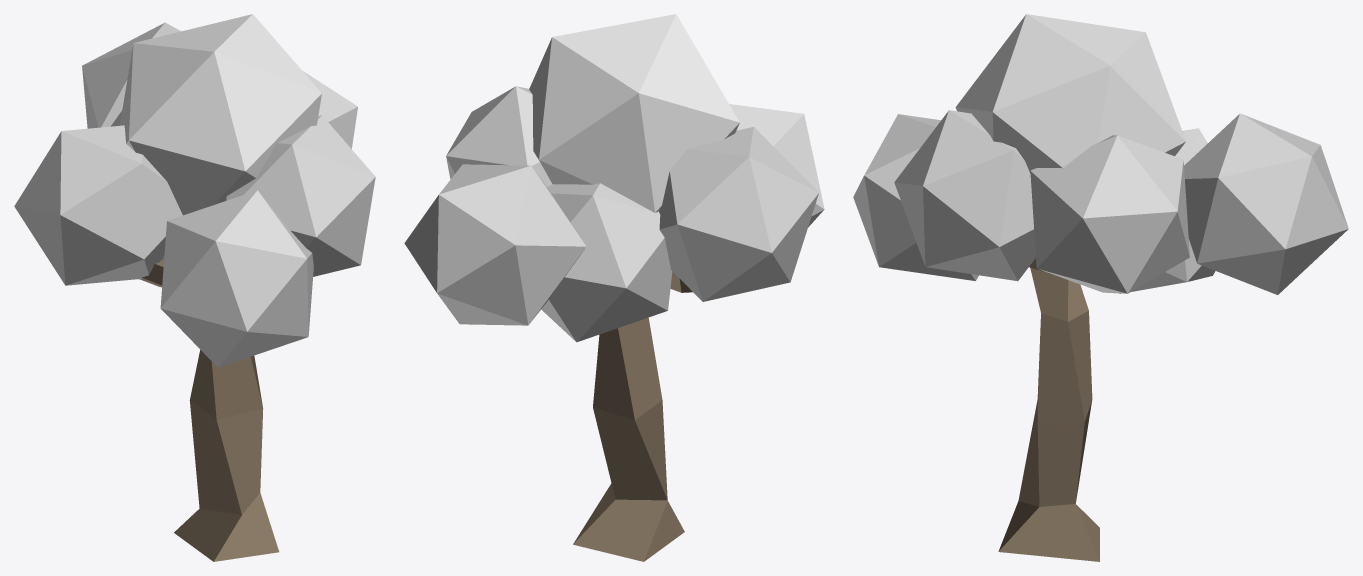
File: Tree.fbx
The picture shows the model from 3 angles, left to right: view 1: azimuth 30°, elevation 25°; view 2: azimuth 150°, elevation 25°; view 3: azimuth 270°, elevation 25°; orthographic projection. The views are drawn at different scales.
Parts seen in each view (by area): view 1: Icosphere.006, Icosphere.004, Icosphere.003, Cube, Icosphere.005, Icosphere, Icosphere.001; view 2: Icosphere.006, Icosphere, Icosphere.003, Cube, Icosphere.002, Icosphere.001, Icosphere.004; view 3: Icosphere.006, Icosphere, Icosphere.001, Icosphere.005, Cube, Icosphere.004, Icosphere.002.
Boxes of the visible parts, x1,y1,x2,y2 form: Icosphere.006: (119, 14, 321, 215); Icosphere.004: (160, 190, 313, 367); Icosphere.003: (14, 125, 182, 285); Cube: (139, 260, 279, 561); Icosphere.005: (225, 115, 375, 276); Icosphere: (82, 22, 180, 128); Icosphere.001: (302, 70, 357, 148); Icosphere.006: (529, 14, 739, 212); Icosphere: (404, 164, 586, 325); Icosphere.003: (659, 127, 818, 301); Cube: (573, 271, 692, 561); Icosphere.002: (541, 183, 672, 342); Icosphere.001: (446, 86, 552, 186); Icosphere.004: (729, 104, 824, 227); Icosphere.006: (955, 14, 1185, 173); Icosphere: (1184, 113, 1348, 294); Icosphere.001: (1030, 135, 1189, 293); Icosphere.005: (894, 110, 1035, 281); Cube: (998, 258, 1099, 561); Icosphere.004: (853, 114, 978, 280); Icosphere.002: (1119, 128, 1215, 293).
Size of the model in its own units: 468 by 711 by 619.
